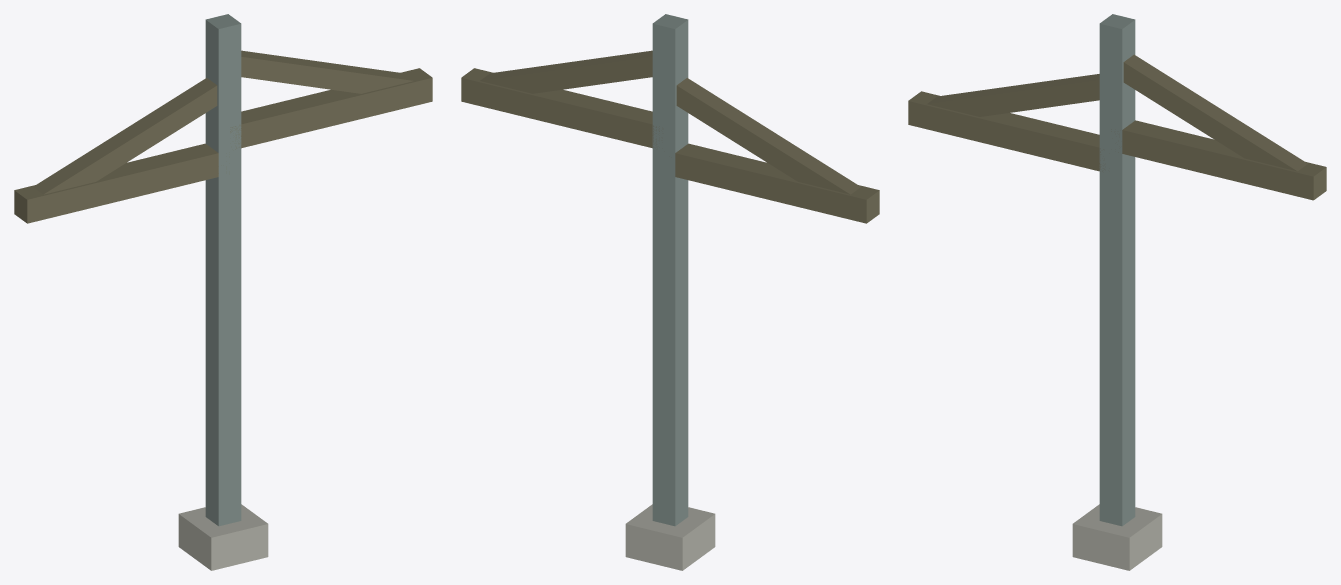
Rendered from SM_poste_catenaria_v3_LOD1.fbx.
3 renders of one model, left to right at view 1: azimuth 30°, elevation 25°; view 2: azimuth 150°, elevation 25°; view 3: azimuth 330°, elevation 25°, orthographic.
Parts seen in each view (by area): view 1: SM_bloques.poste_catenaria_v3_LOD1; view 2: SM_bloques.poste_catenaria_v3_LOD1; view 3: SM_bloques.poste_catenaria_v3_LOD1.
Part boxes in pixels (bbox=[...]): SM_bloques.poste_catenaria_v3_LOD1: bbox=[14, 14, 432, 570]; SM_bloques.poste_catenaria_v3_LOD1: bbox=[461, 14, 879, 570]; SM_bloques.poste_catenaria_v3_LOD1: bbox=[908, 14, 1326, 570].
Size of the model in its own units: 6.4 by 8 by 0.9.
